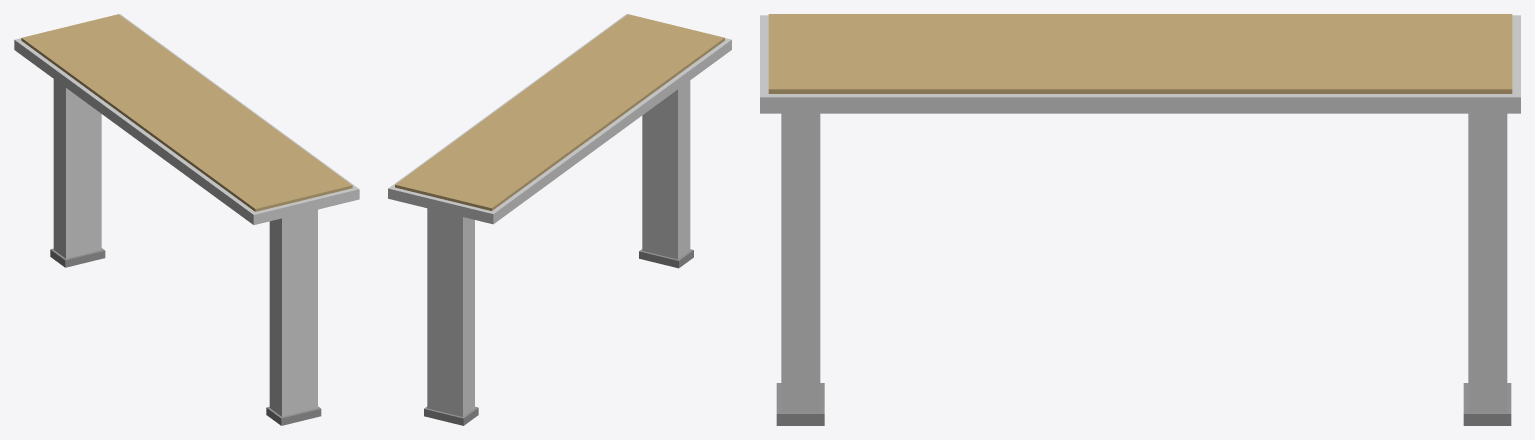
The model's file is bench.fbx.
3 views of the same model, side by side, from view 1: azimuth 30°, elevation 25°; view 2: azimuth 150°, elevation 25°; view 3: azimuth 270°, elevation 25° (orthographic). The views are drawn at different scales.
Visible parts, largest first — view 1: Cube_2; view 2: Cube_2; view 3: Cube_2.
Boxes of the visible parts, x1=… form: Cube_2: x1=14, y1=14, x2=359, y2=425; Cube_2: x1=388, y1=14, x2=731, y2=425; Cube_2: x1=760, y1=14, x2=1520, y2=425.
Size of the model in its own units: 30.56 by 62.36 by 120.
